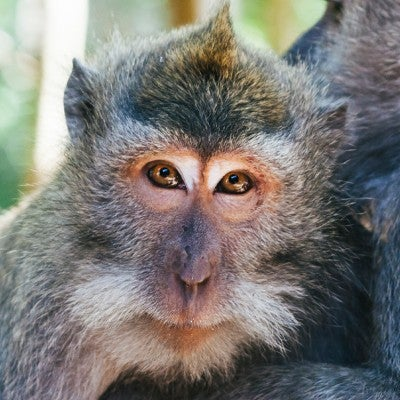monkey_face: (56, 41, 328, 359)
